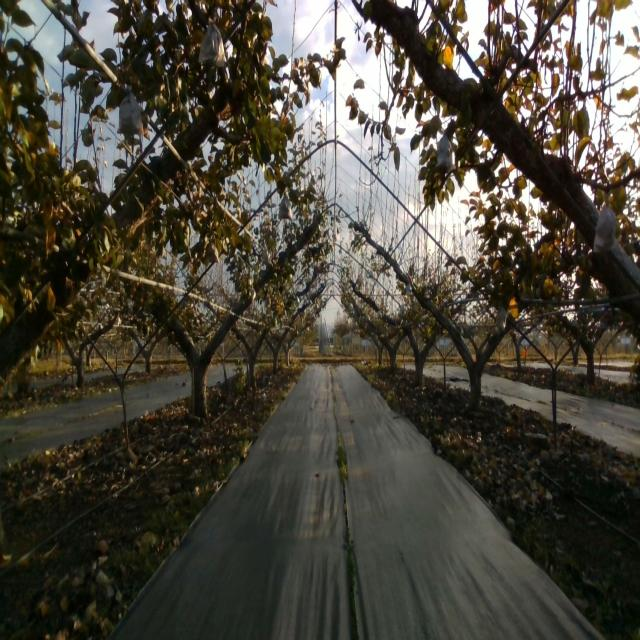pearbags: (116, 85, 144, 137), (198, 16, 225, 69), (593, 206, 616, 253), (435, 130, 455, 172), (278, 191, 294, 221), (204, 242, 220, 264), (496, 303, 507, 332)
